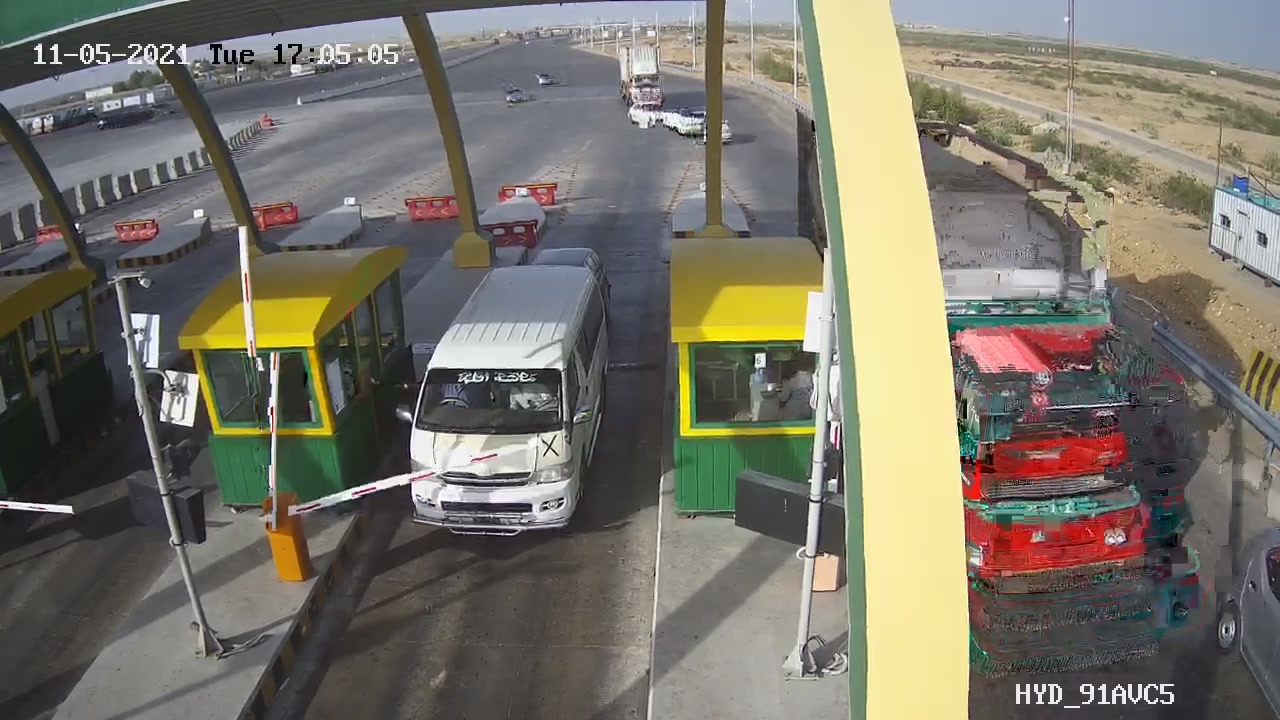F2: (363, 246, 639, 564)
